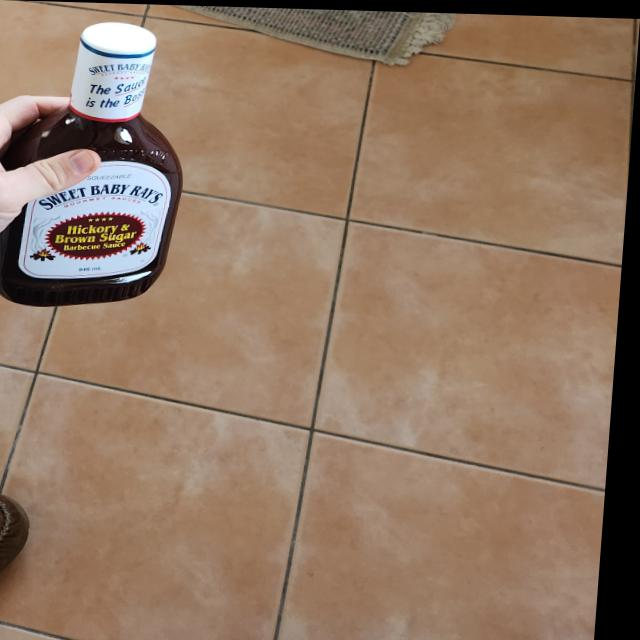barbecue sauce: (0, 17, 196, 312)
